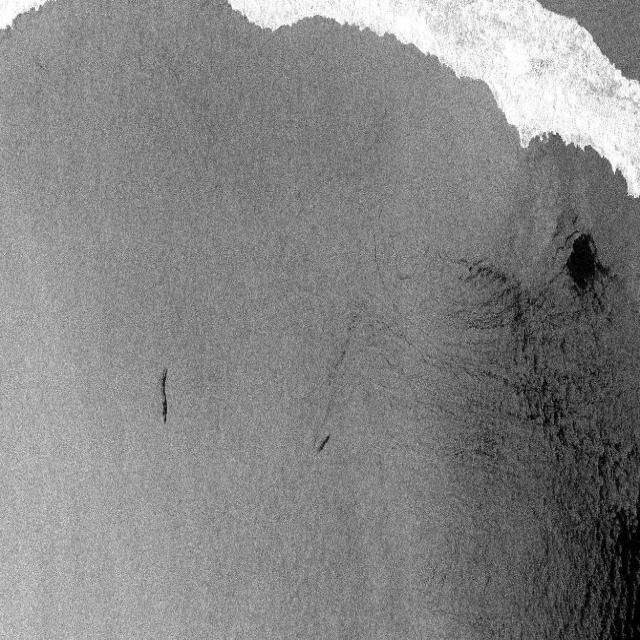look-alike: (522, 360, 640, 639), (457, 252, 541, 350), (553, 210, 617, 320)
oil-spill: (309, 421, 341, 462), (157, 368, 174, 424)
